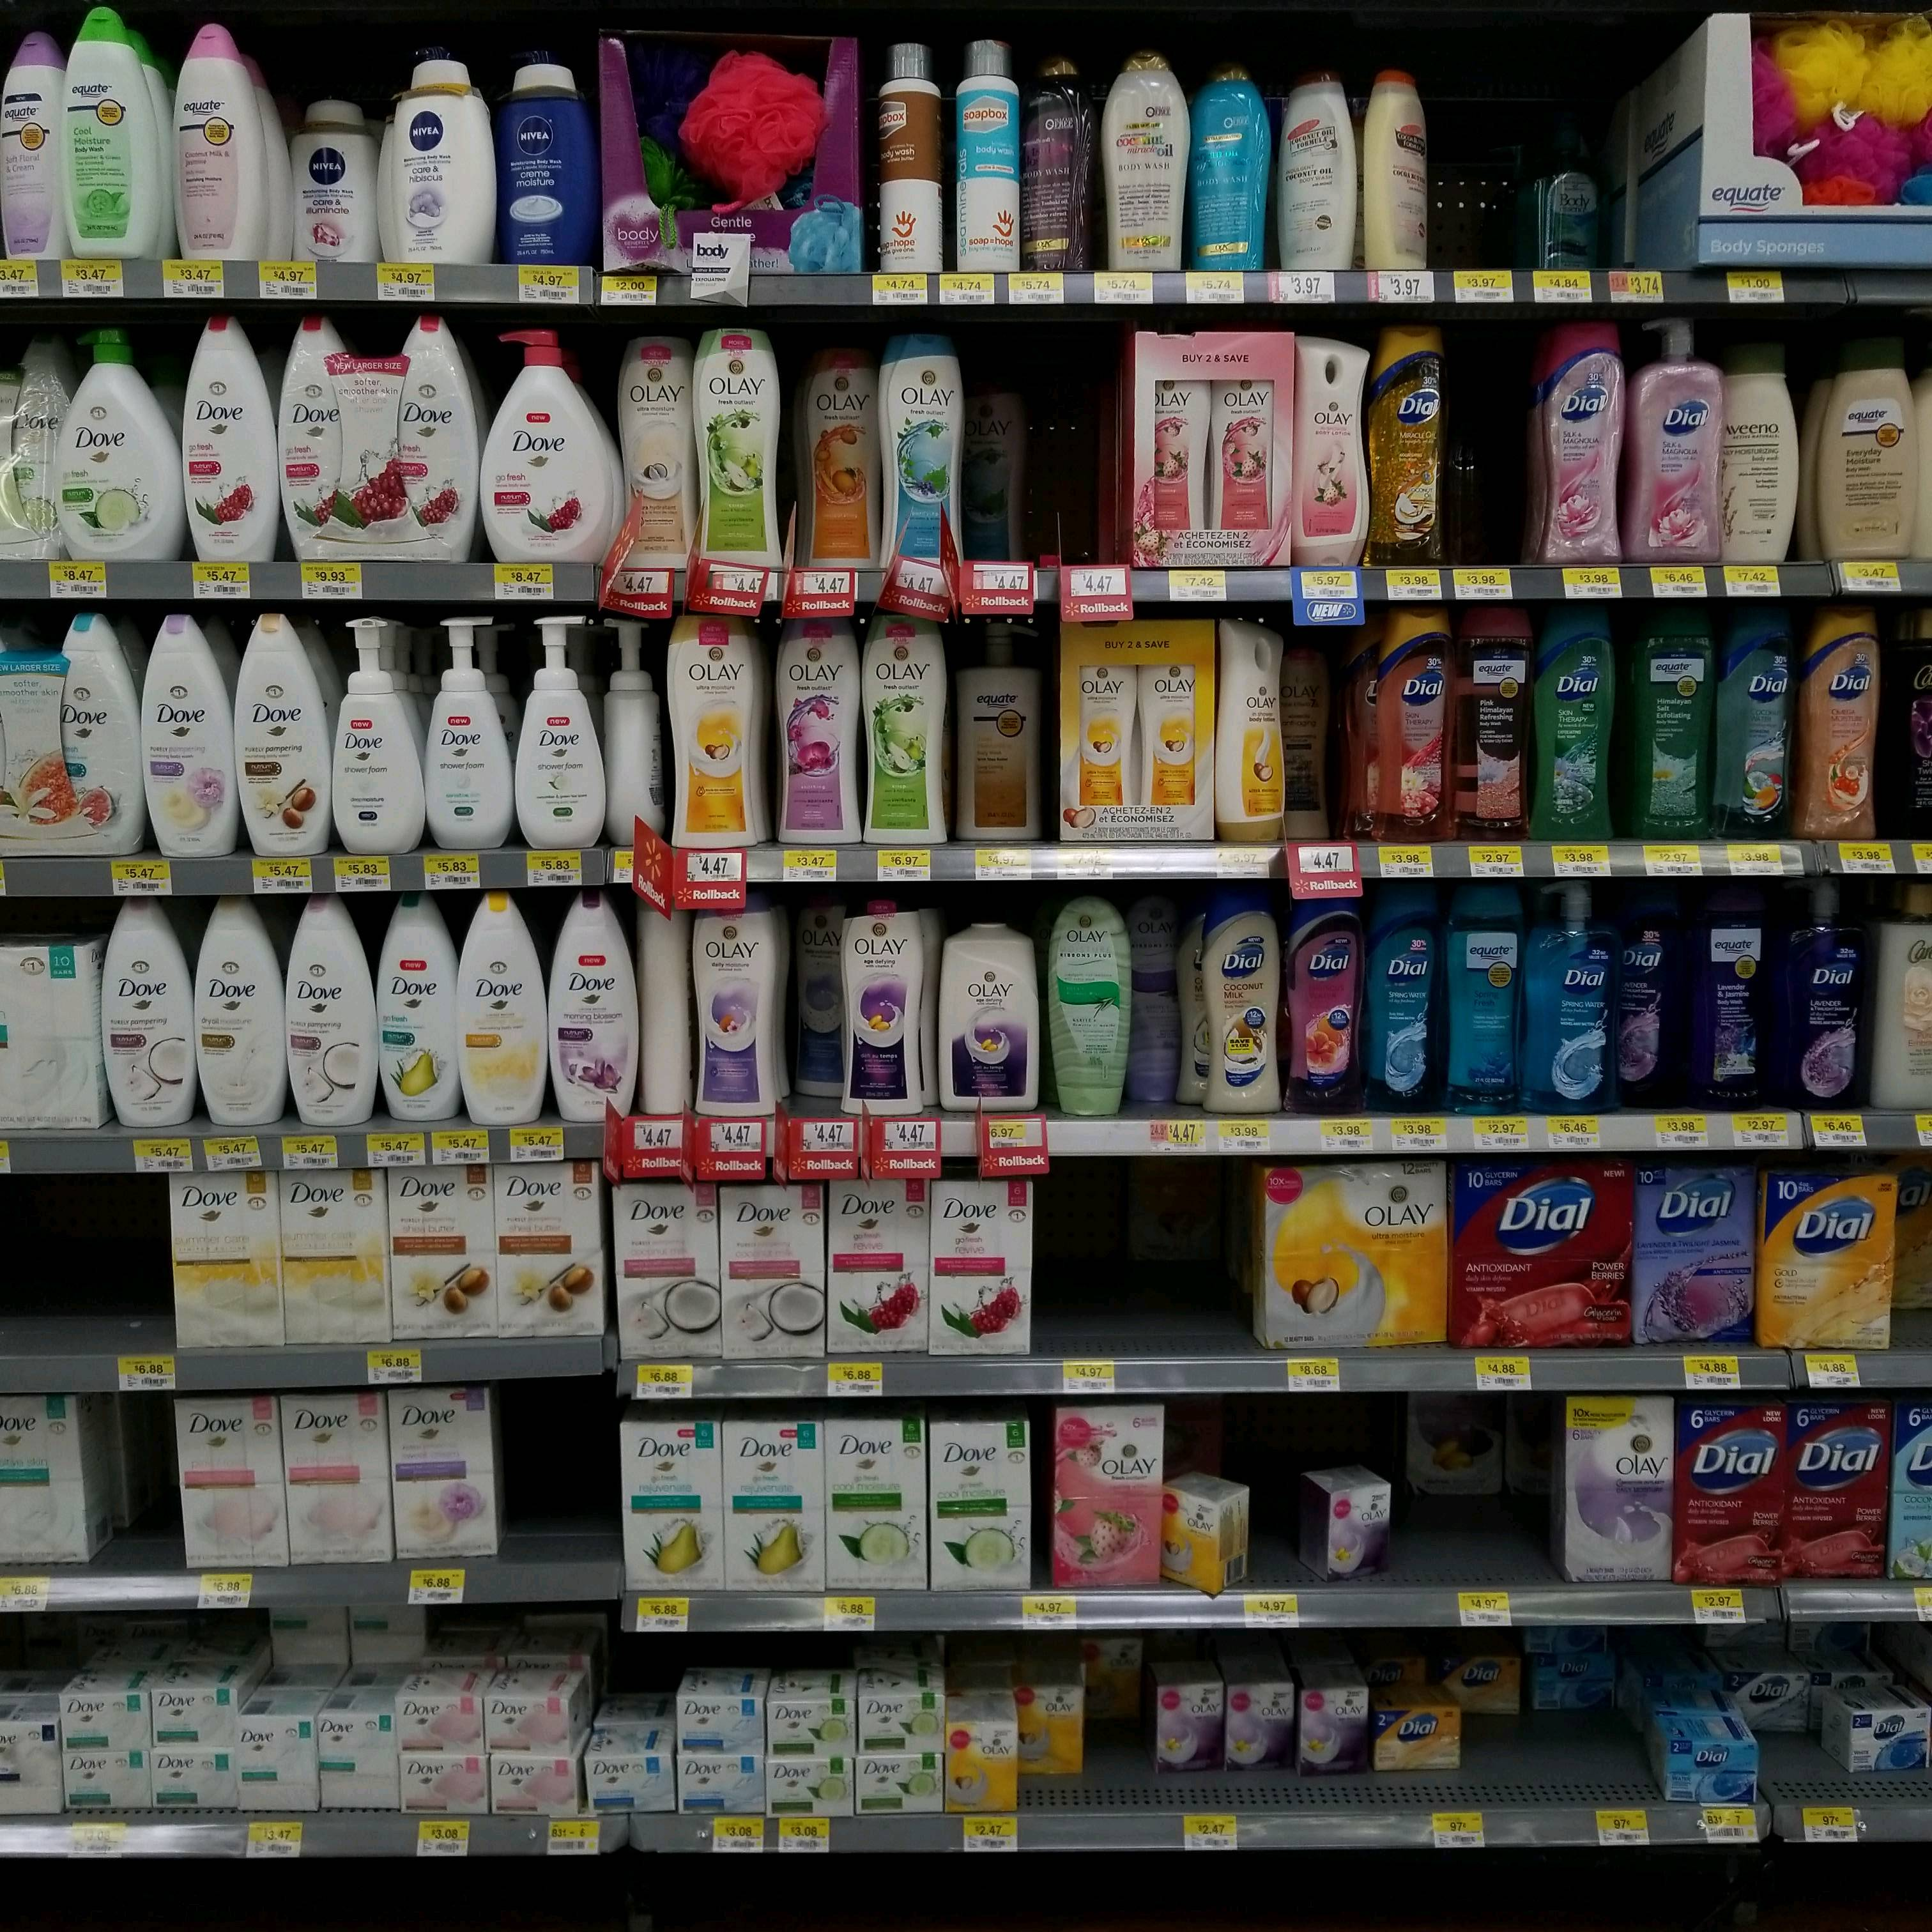Misplacement: (1132, 1157, 1233, 1355)
Out-of-stock: (510, 1378, 619, 1557)
